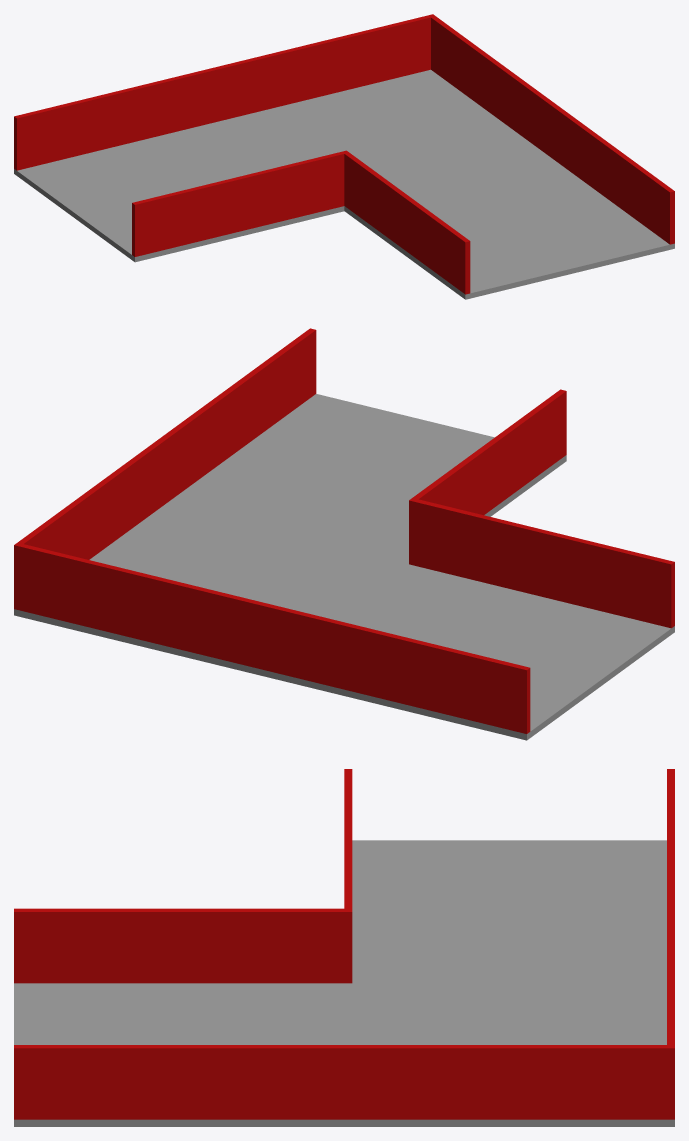
Rendered from corner.obj.
3 renders of one model, top to bottom at view 1: azimuth 30°, elevation 25°; view 2: azimuth 150°, elevation 25°; view 3: azimuth 270°, elevation 25°, orthographic. The views are drawn at different scales.
Size of the model in its own units: 84 by 11 by 84.
Materials: 1 (1 with a texture image).
